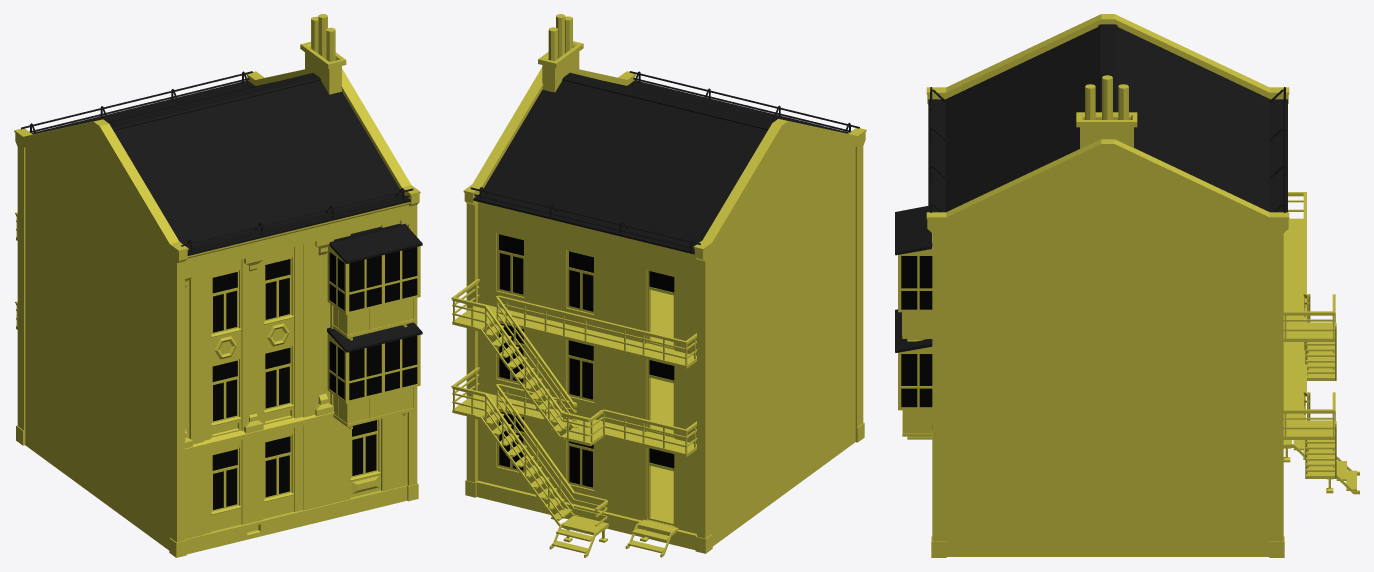
Rendered from SM_fifth_house_2.fbx.
3 renders of one model, left to right at view 1: azimuth 30°, elevation 25°; view 2: azimuth 150°, elevation 25°; view 3: azimuth 270°, elevation 25°, orthographic. The views are drawn at different scales.
Parts seen in each view (by area): view 1: Cylinder_10; view 2: Cylinder_10; view 3: Cylinder_10.
Boxes of the visible parts, box(x1,y1,x2,y2) form: Cylinder_10: box(14, 14, 422, 557); Cylinder_10: box(451, 14, 866, 557); Cylinder_10: box(895, 14, 1359, 557).
Size of the model in its own units: 857 by 1450 by 1292.
